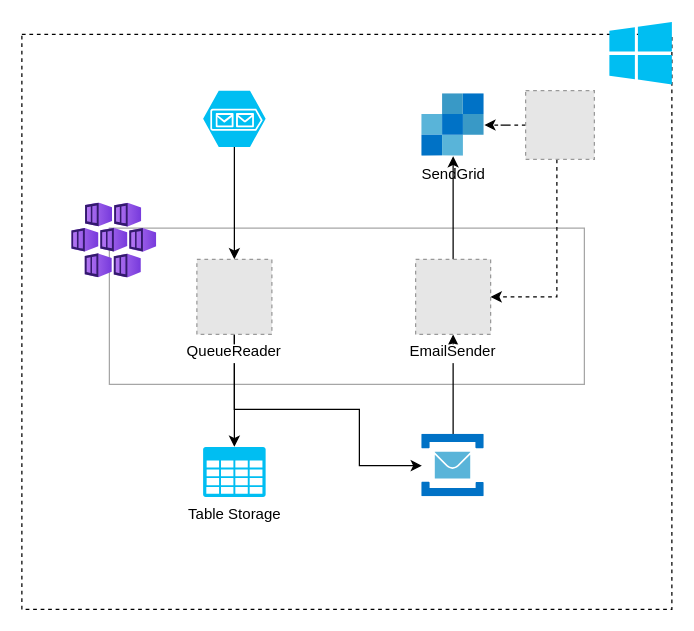
The diagram is 694 pixels wide and 631 high, and some of its shapes have lost their labels. Grey dashed boxes stand in for pictures. The shapes that lost their labels are listed below. From the top down, each one's box as (x1, y1, x2, y2) in pixels, then its label:
(202, 90, 265, 146): Azure Queue
(421, 434, 484, 496): Service Bus
